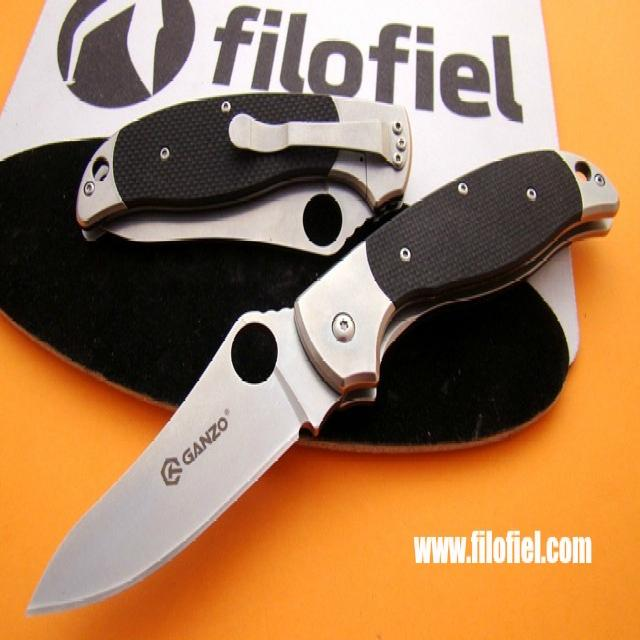knife: (25, 140, 624, 626)
